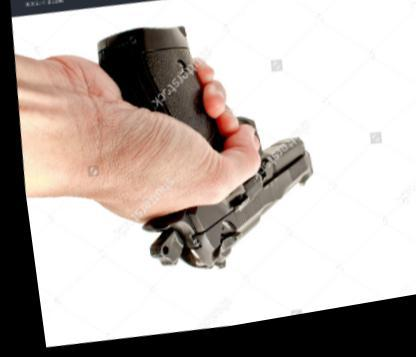pistol: (83, 13, 325, 294)
